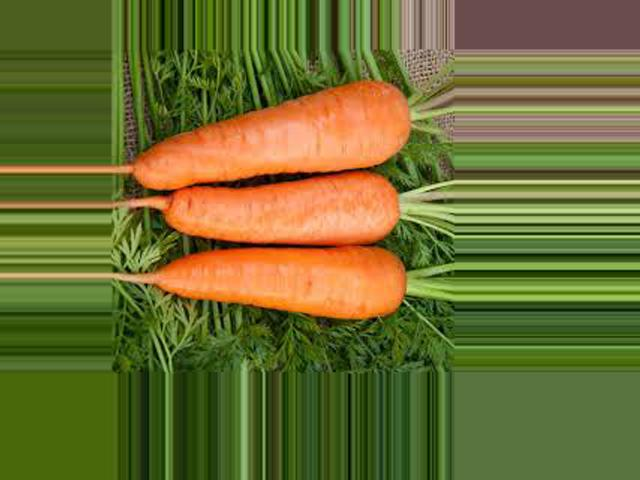carrot: (129, 76, 413, 189)
